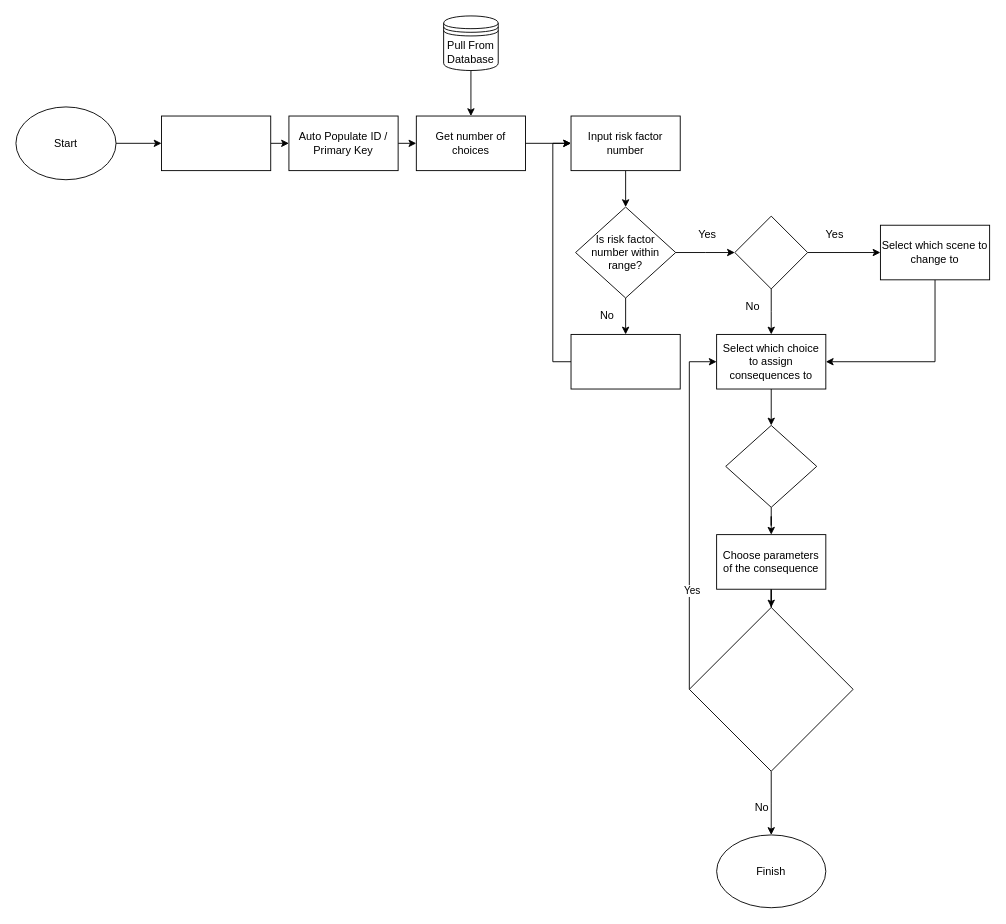
Image size: 1006x924. Some labels were removed from this diagram. Here are the shapes that lost their labels. From the top down, the box of each, then its label:
(161, 115, 271, 171): Input event name
(734, 215, 808, 289): Does scene change?
(570, 334, 680, 389): Show message saying number must be within range
(725, 425, 817, 507): What do the consequences affect?
(688, 607, 853, 771): Are there still choices that need consequences assigned to them?
